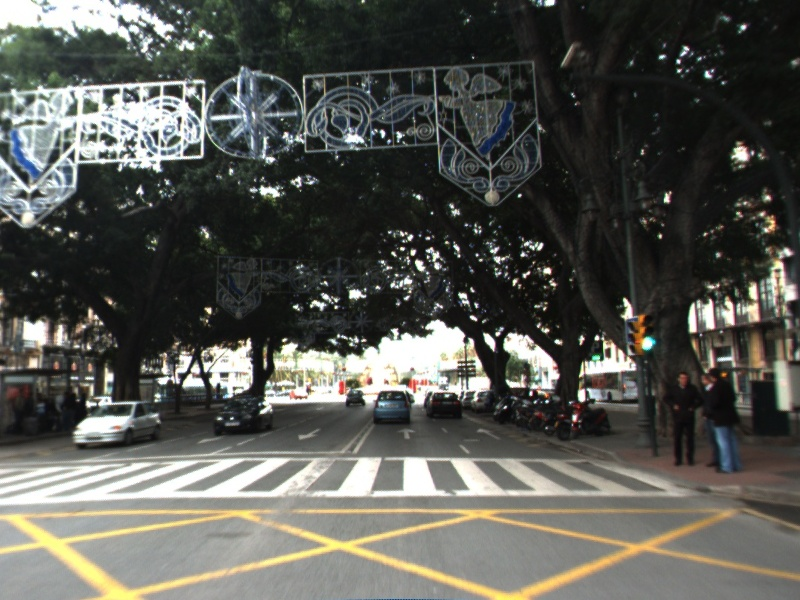STRAIGHT: (475, 426, 504, 442), (395, 426, 418, 441)
